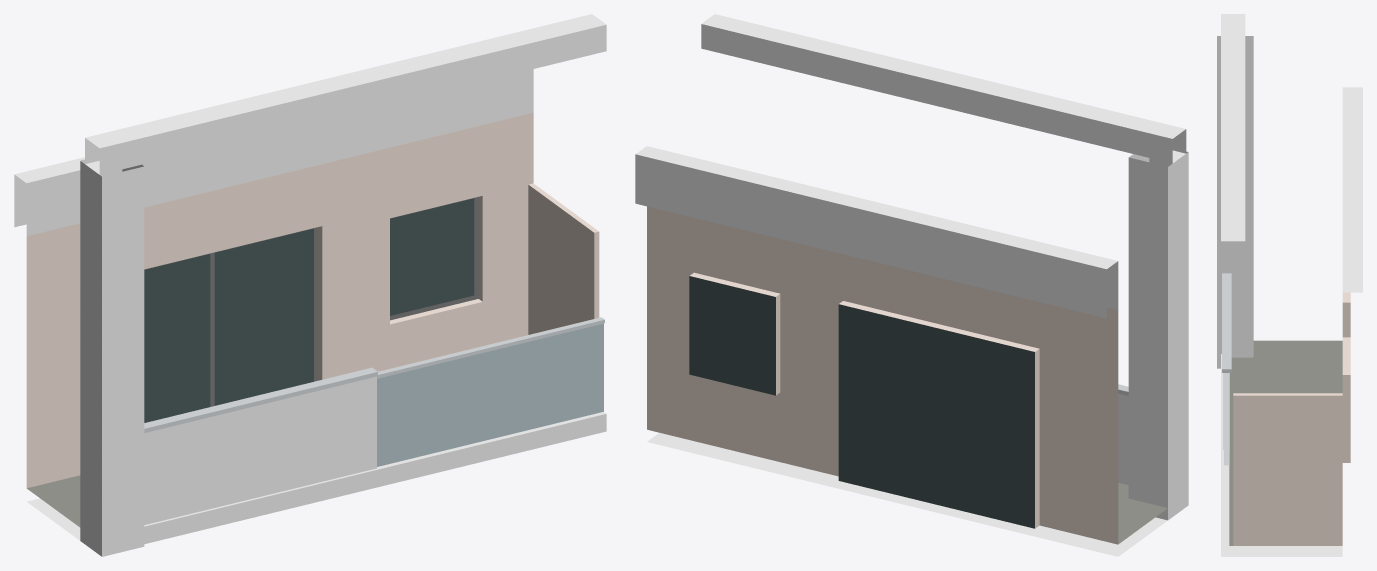
Rendered from top-w1.fbx.
The picture shows the model from 3 angles, left to right: view 1: azimuth 30°, elevation 25°; view 2: azimuth 150°, elevation 25°; view 3: azimuth 270°, elevation 25°; orthographic projection. The views are drawn at different scales.
Parts seen in each view (by area): view 1: a2007/250/top-w1; view 2: a2007/250/top-w1; view 3: a2007/250/top-w1.
Part boxes in pixels (bbox=[...]): a2007/250/top-w1: bbox=[14, 14, 606, 556]; a2007/250/top-w1: bbox=[635, 14, 1188, 556]; a2007/250/top-w1: bbox=[1217, 14, 1362, 556].
Size of the model in its own units: 6 by 4.6 by 1.8.
